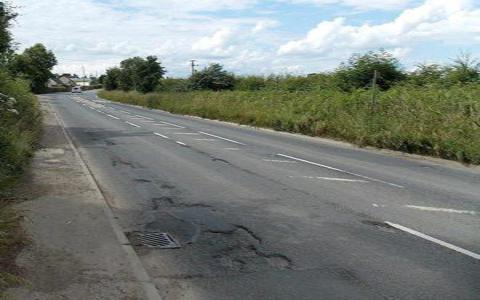patchy roads: (122, 183, 298, 276)
